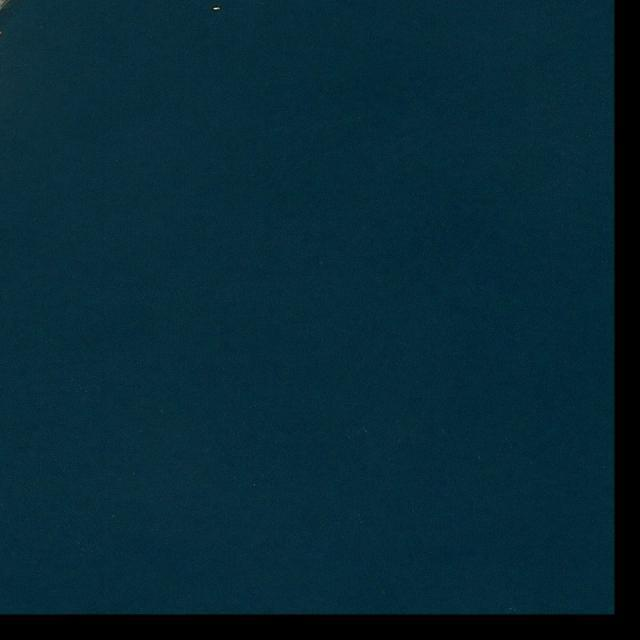ship: (214, 7, 222, 11)
